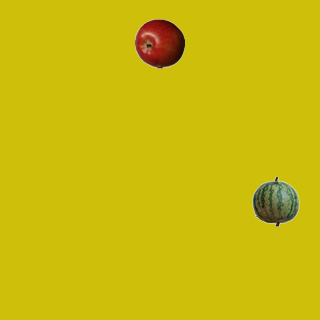Apple Braeburn: (134, 18, 184, 68)
Watermelon: (250, 176, 300, 226)
